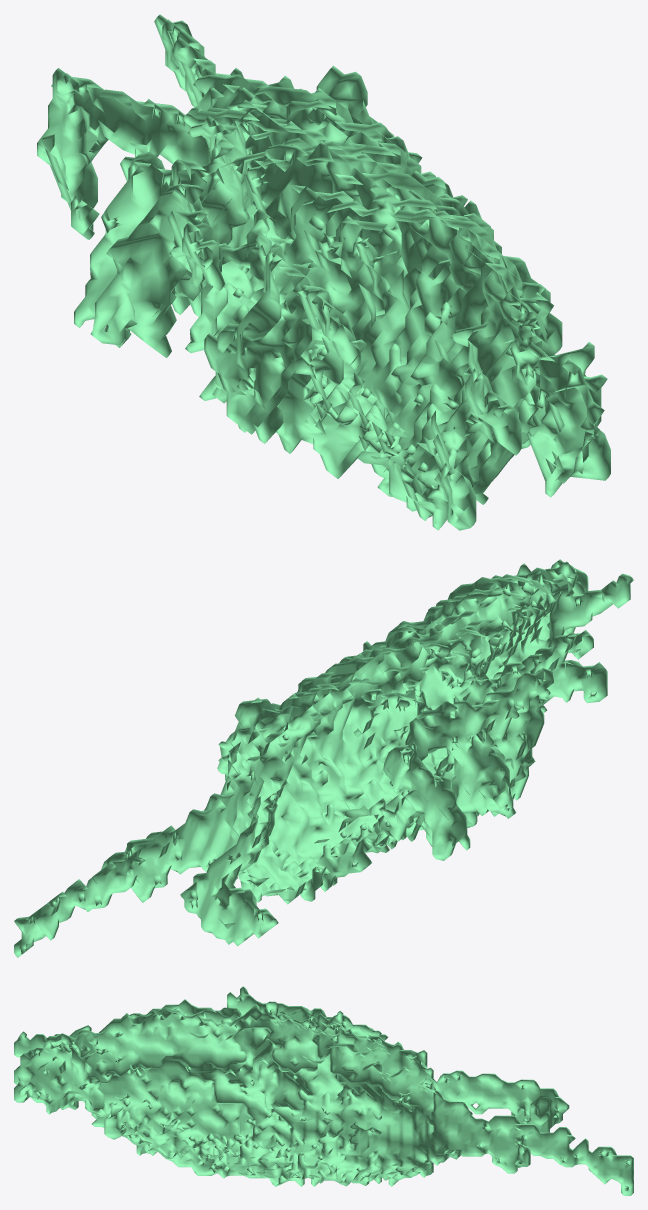
The model's file is osteocyte_122.glb.
The picture shows the model from 3 angles, top to bottom: view 1: azimuth 30°, elevation 25°; view 2: azimuth 150°, elevation 25°; view 3: azimuth 270°, elevation 25°; orthographic projection. The views are drawn at different scales.
Parts seen in each view (by area): view 1: osteocyte_122; view 2: osteocyte_122; view 3: osteocyte_122.
Boxes of the visible parts, <box> form: osteocyte_122: <box>37,14,610,530</box>; osteocyte_122: <box>14,559,633,957</box>; osteocyte_122: <box>14,986,633,1195</box>.
Size of the model in its own units: 17.81 by 13.48 by 46.22.
